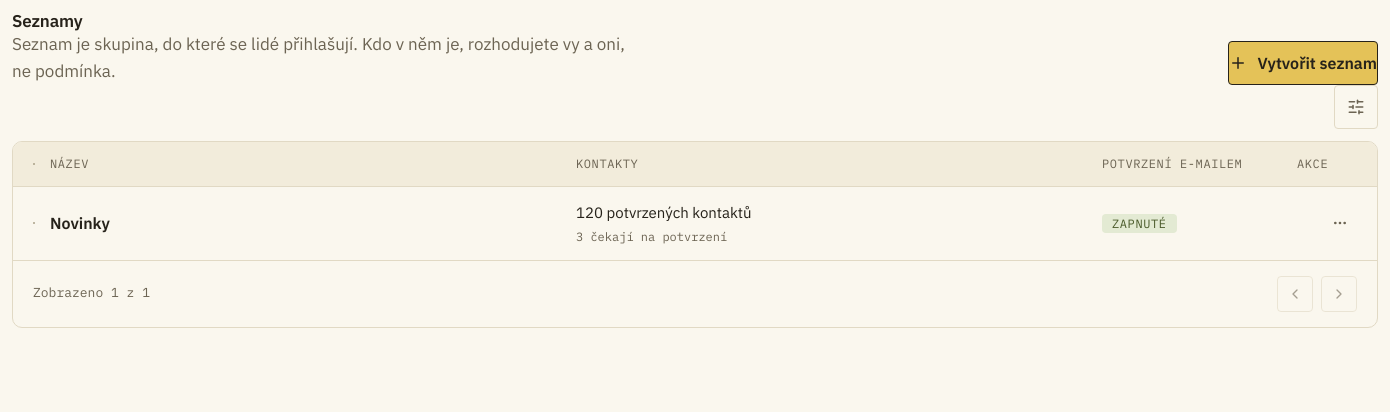
Test: hromadná archivace seznamů › bez práva zapisovat pruh akci nenabízí
Step 1. Click the checkbox named "Název" → (34, 223), box [33, 222, 35, 224]
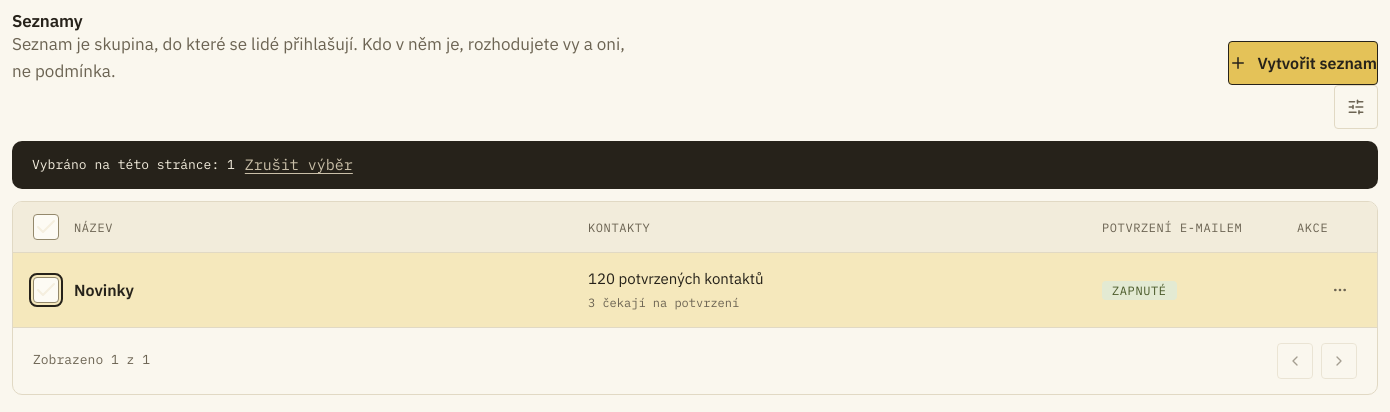
Check: the element with test id "selection-bar" is shown, box [12, 141, 1378, 189]
